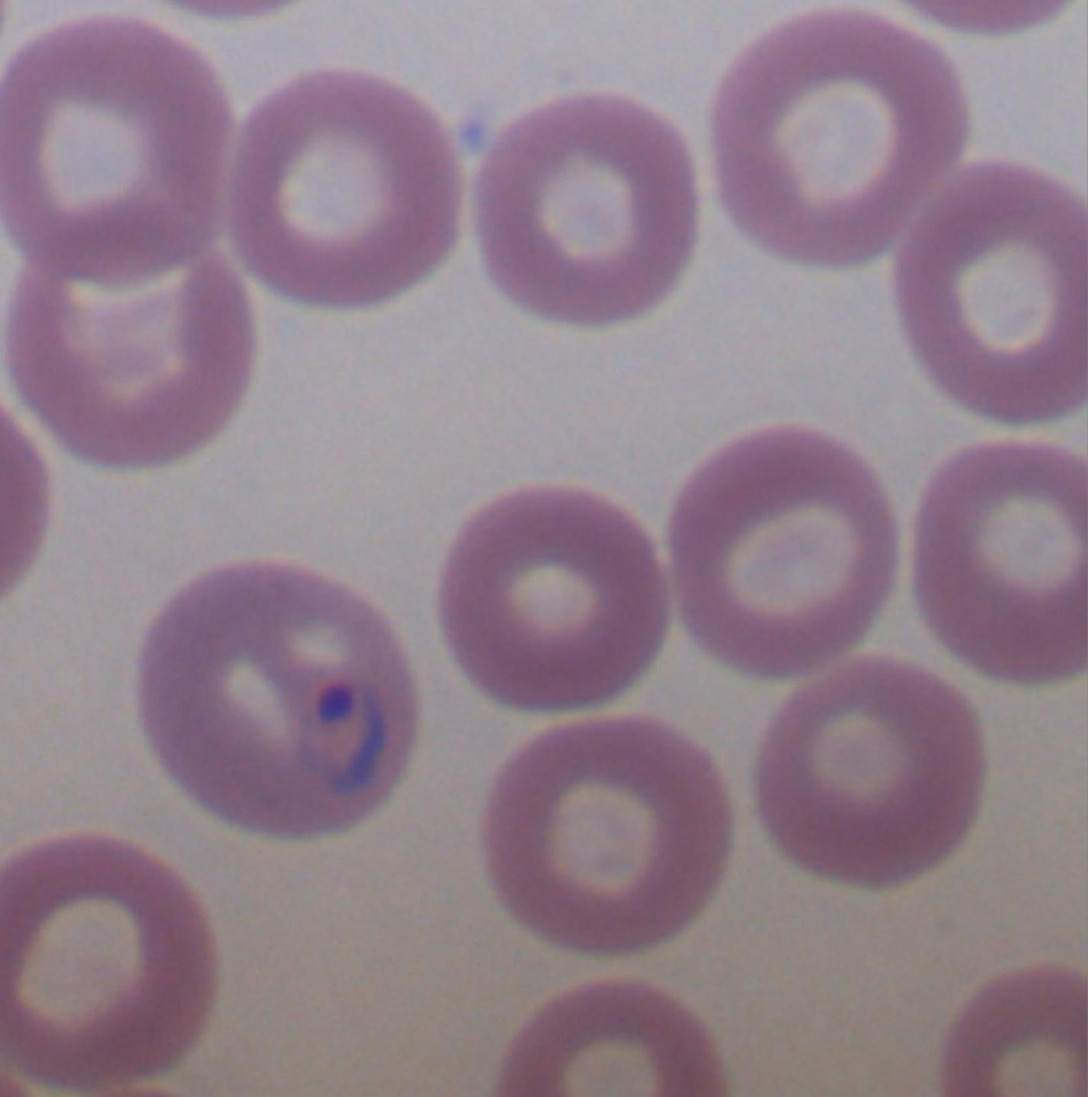Infected: (137, 557, 423, 840)
Uninfected: (0, 11, 235, 284), (719, 16, 972, 269), (5, 232, 259, 472), (229, 67, 466, 313), (670, 425, 901, 676), (480, 723, 730, 954), (472, 90, 703, 328), (752, 661, 989, 887), (0, 832, 213, 1082), (897, 158, 1088, 433), (439, 489, 665, 711), (914, 440, 1088, 681), (493, 982, 733, 1097)
